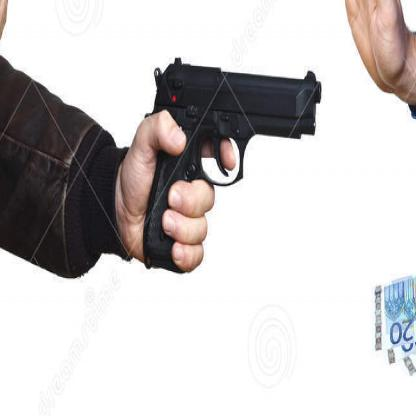gun: (145, 43, 329, 294)
